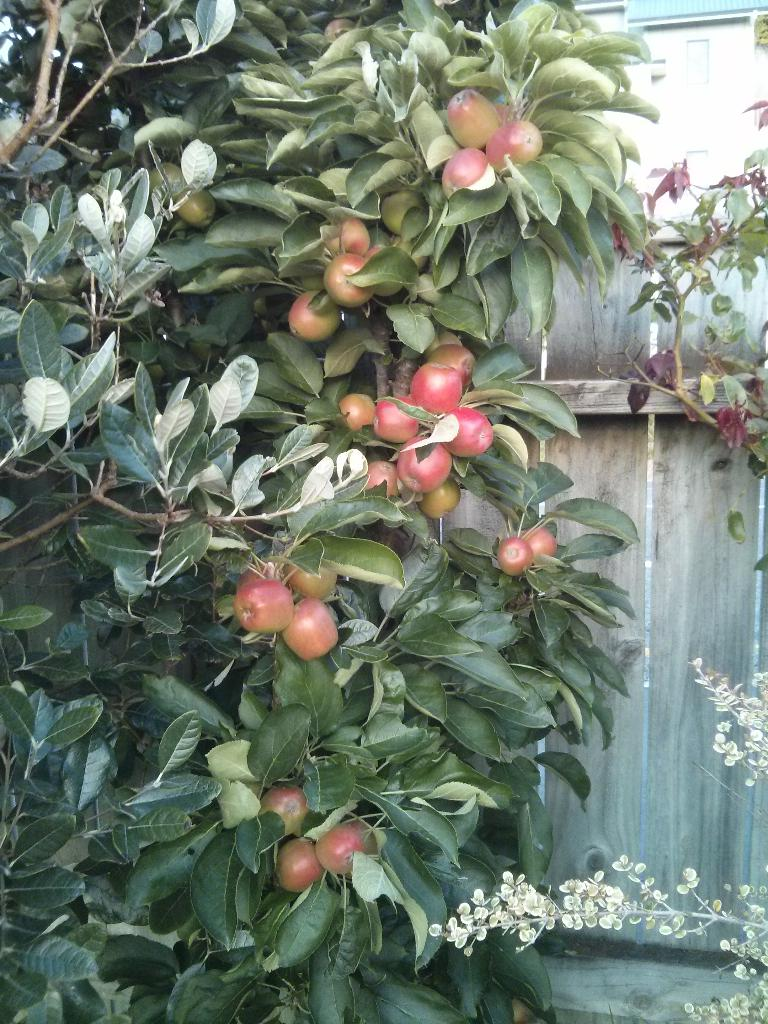Apple: (334, 338, 504, 524), (278, 597, 344, 660), (273, 832, 337, 896), (234, 576, 301, 636), (442, 87, 509, 147), (287, 288, 355, 345), (259, 783, 322, 844), (322, 246, 378, 311), (437, 146, 502, 200), (311, 826, 373, 879), (487, 123, 544, 179), (380, 181, 439, 235), (282, 552, 343, 600), (364, 242, 411, 302), (166, 181, 220, 233), (318, 213, 378, 259), (145, 158, 203, 197), (521, 519, 556, 571), (322, 8, 368, 47), (494, 535, 533, 580)
